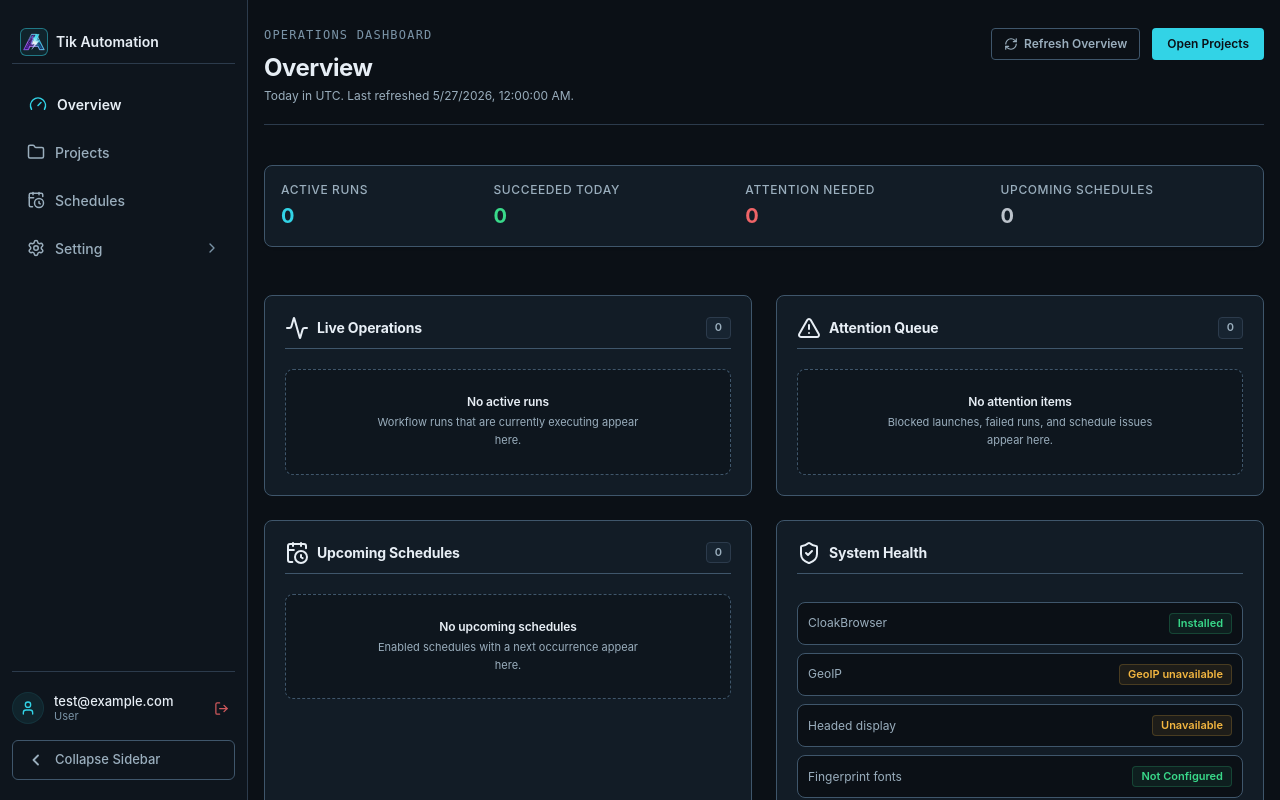
Test: App shell › toggles the application sidebar
What coordinates should you click on to do the following:
click the button "Collapse Sidebar"
I would click on:
 (124, 760)
Its box is [12,740,235,780].
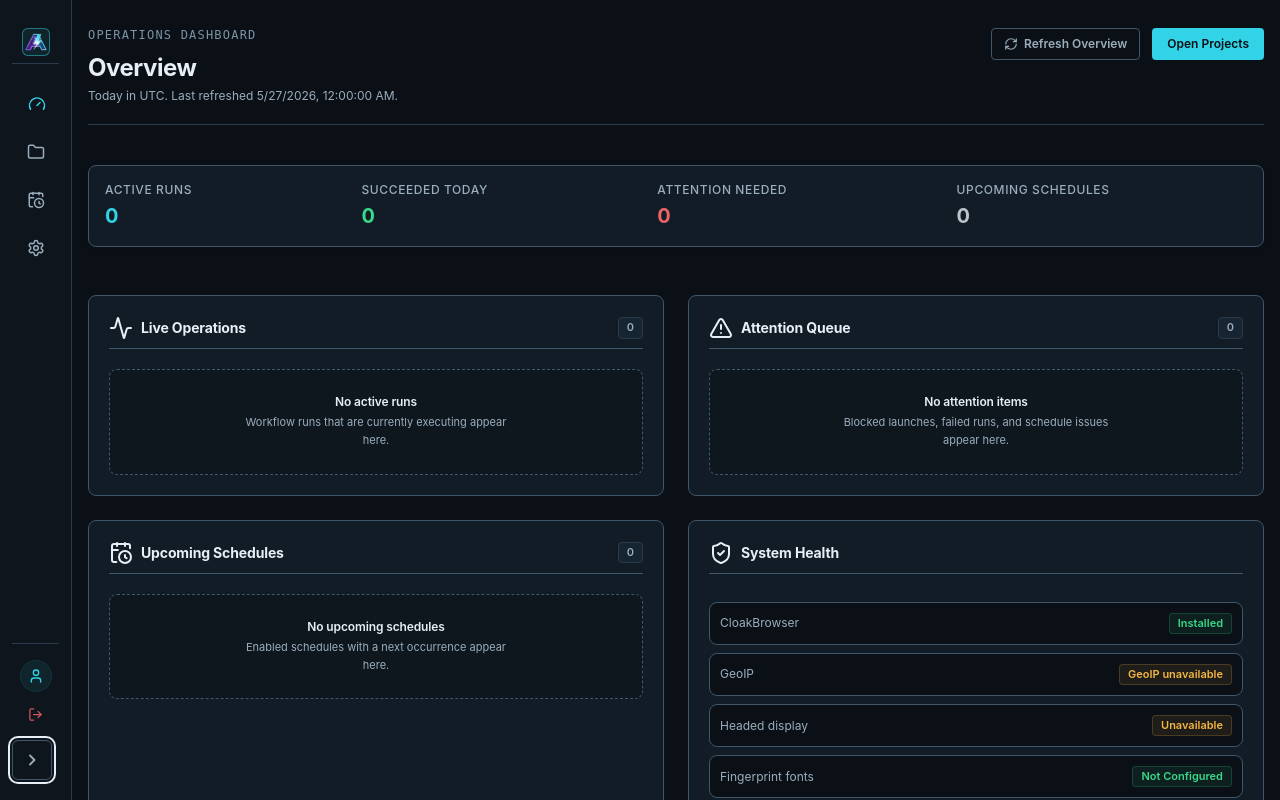
Expected: the button named "Expand sidebar" does not show "Expand sidebar", [12,740,52,780]
Expected: the button named "Expand sidebar" is collapsed, [12,740,52,780]
